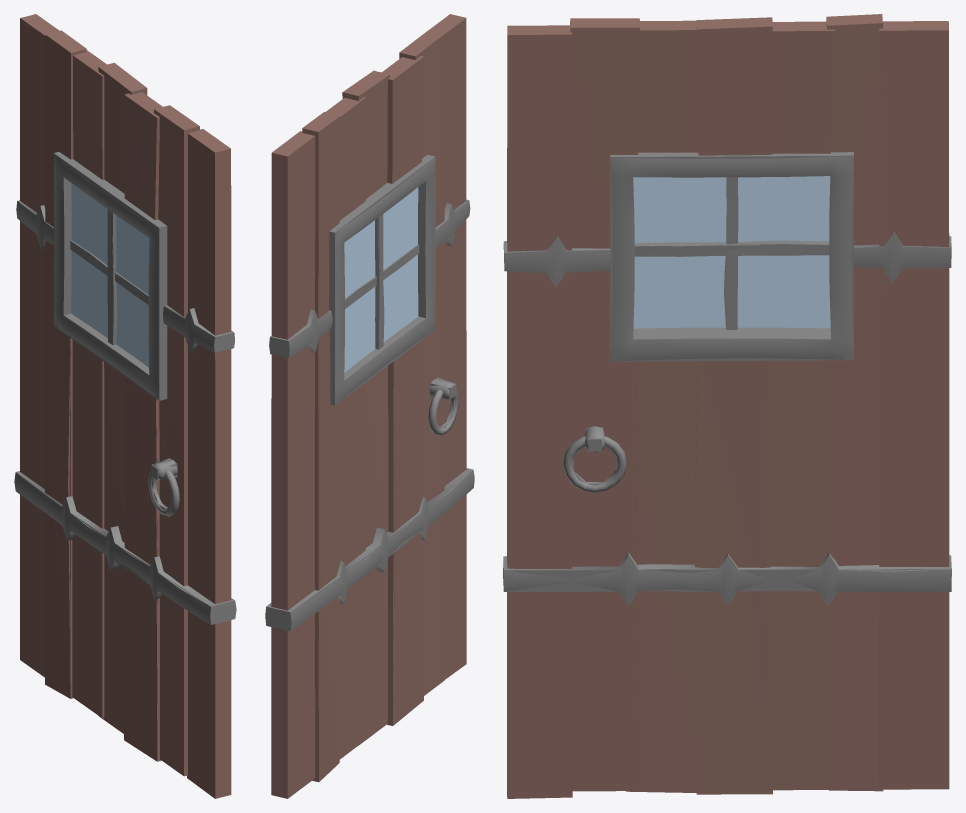
Rendered from Wooden_Door_1_W.fbx.
3 views of the same model, side by side, from view 1: azimuth 30°, elevation 25°; view 2: azimuth 150°, elevation 25°; view 3: azimuth 270°, elevation 25° (orthographic). The views are drawn at different scales.
Parts seen in each view (by area): view 1: Wooden_Door_1_W_LOD0, Wooden_Door_1_W, Wooden_Door_1_Glass; view 2: Wooden_Door_1_W_LOD0, Wooden_Door_1_W, Wooden_Door_1_Glass; view 3: Wooden_Door_1_W_LOD0, Wooden_Door_1_W, Wooden_Door_1_Glass.
Part boxes in pixels (box(x1,y1,x2,y2)): Wooden_Door_1_W_LOD0: box(16, 18, 234, 798); Wooden_Door_1_W: box(14, 14, 236, 776); Wooden_Door_1_Glass: box(71, 183, 149, 367); Wooden_Door_1_W_LOD0: box(266, 18, 472, 798); Wooden_Door_1_W: box(265, 14, 474, 782); Wooden_Door_1_Glass: box(344, 187, 418, 372); Wooden_Door_1_W_LOD0: box(503, 24, 951, 798); Wooden_Door_1_W: box(503, 14, 951, 792); Wooden_Door_1_Glass: box(633, 176, 830, 328).
Bounding box in the file's own units: 0.1846 × 2.18 × 1.15.
